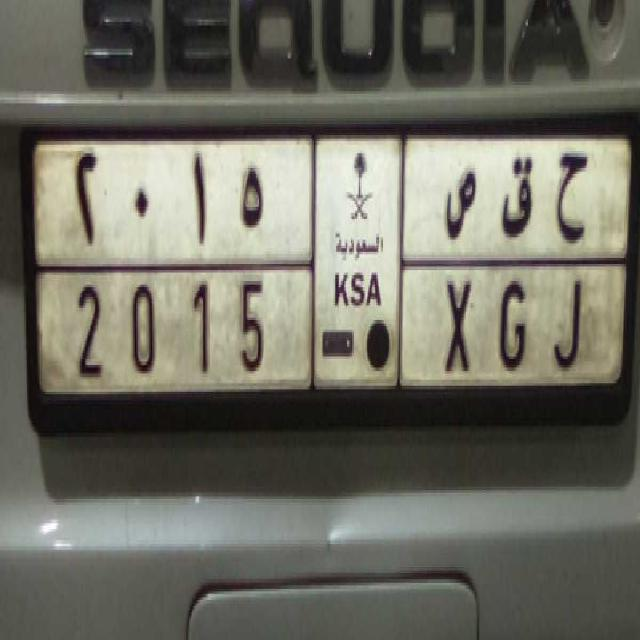license_plate: (48, 255, 596, 426)
